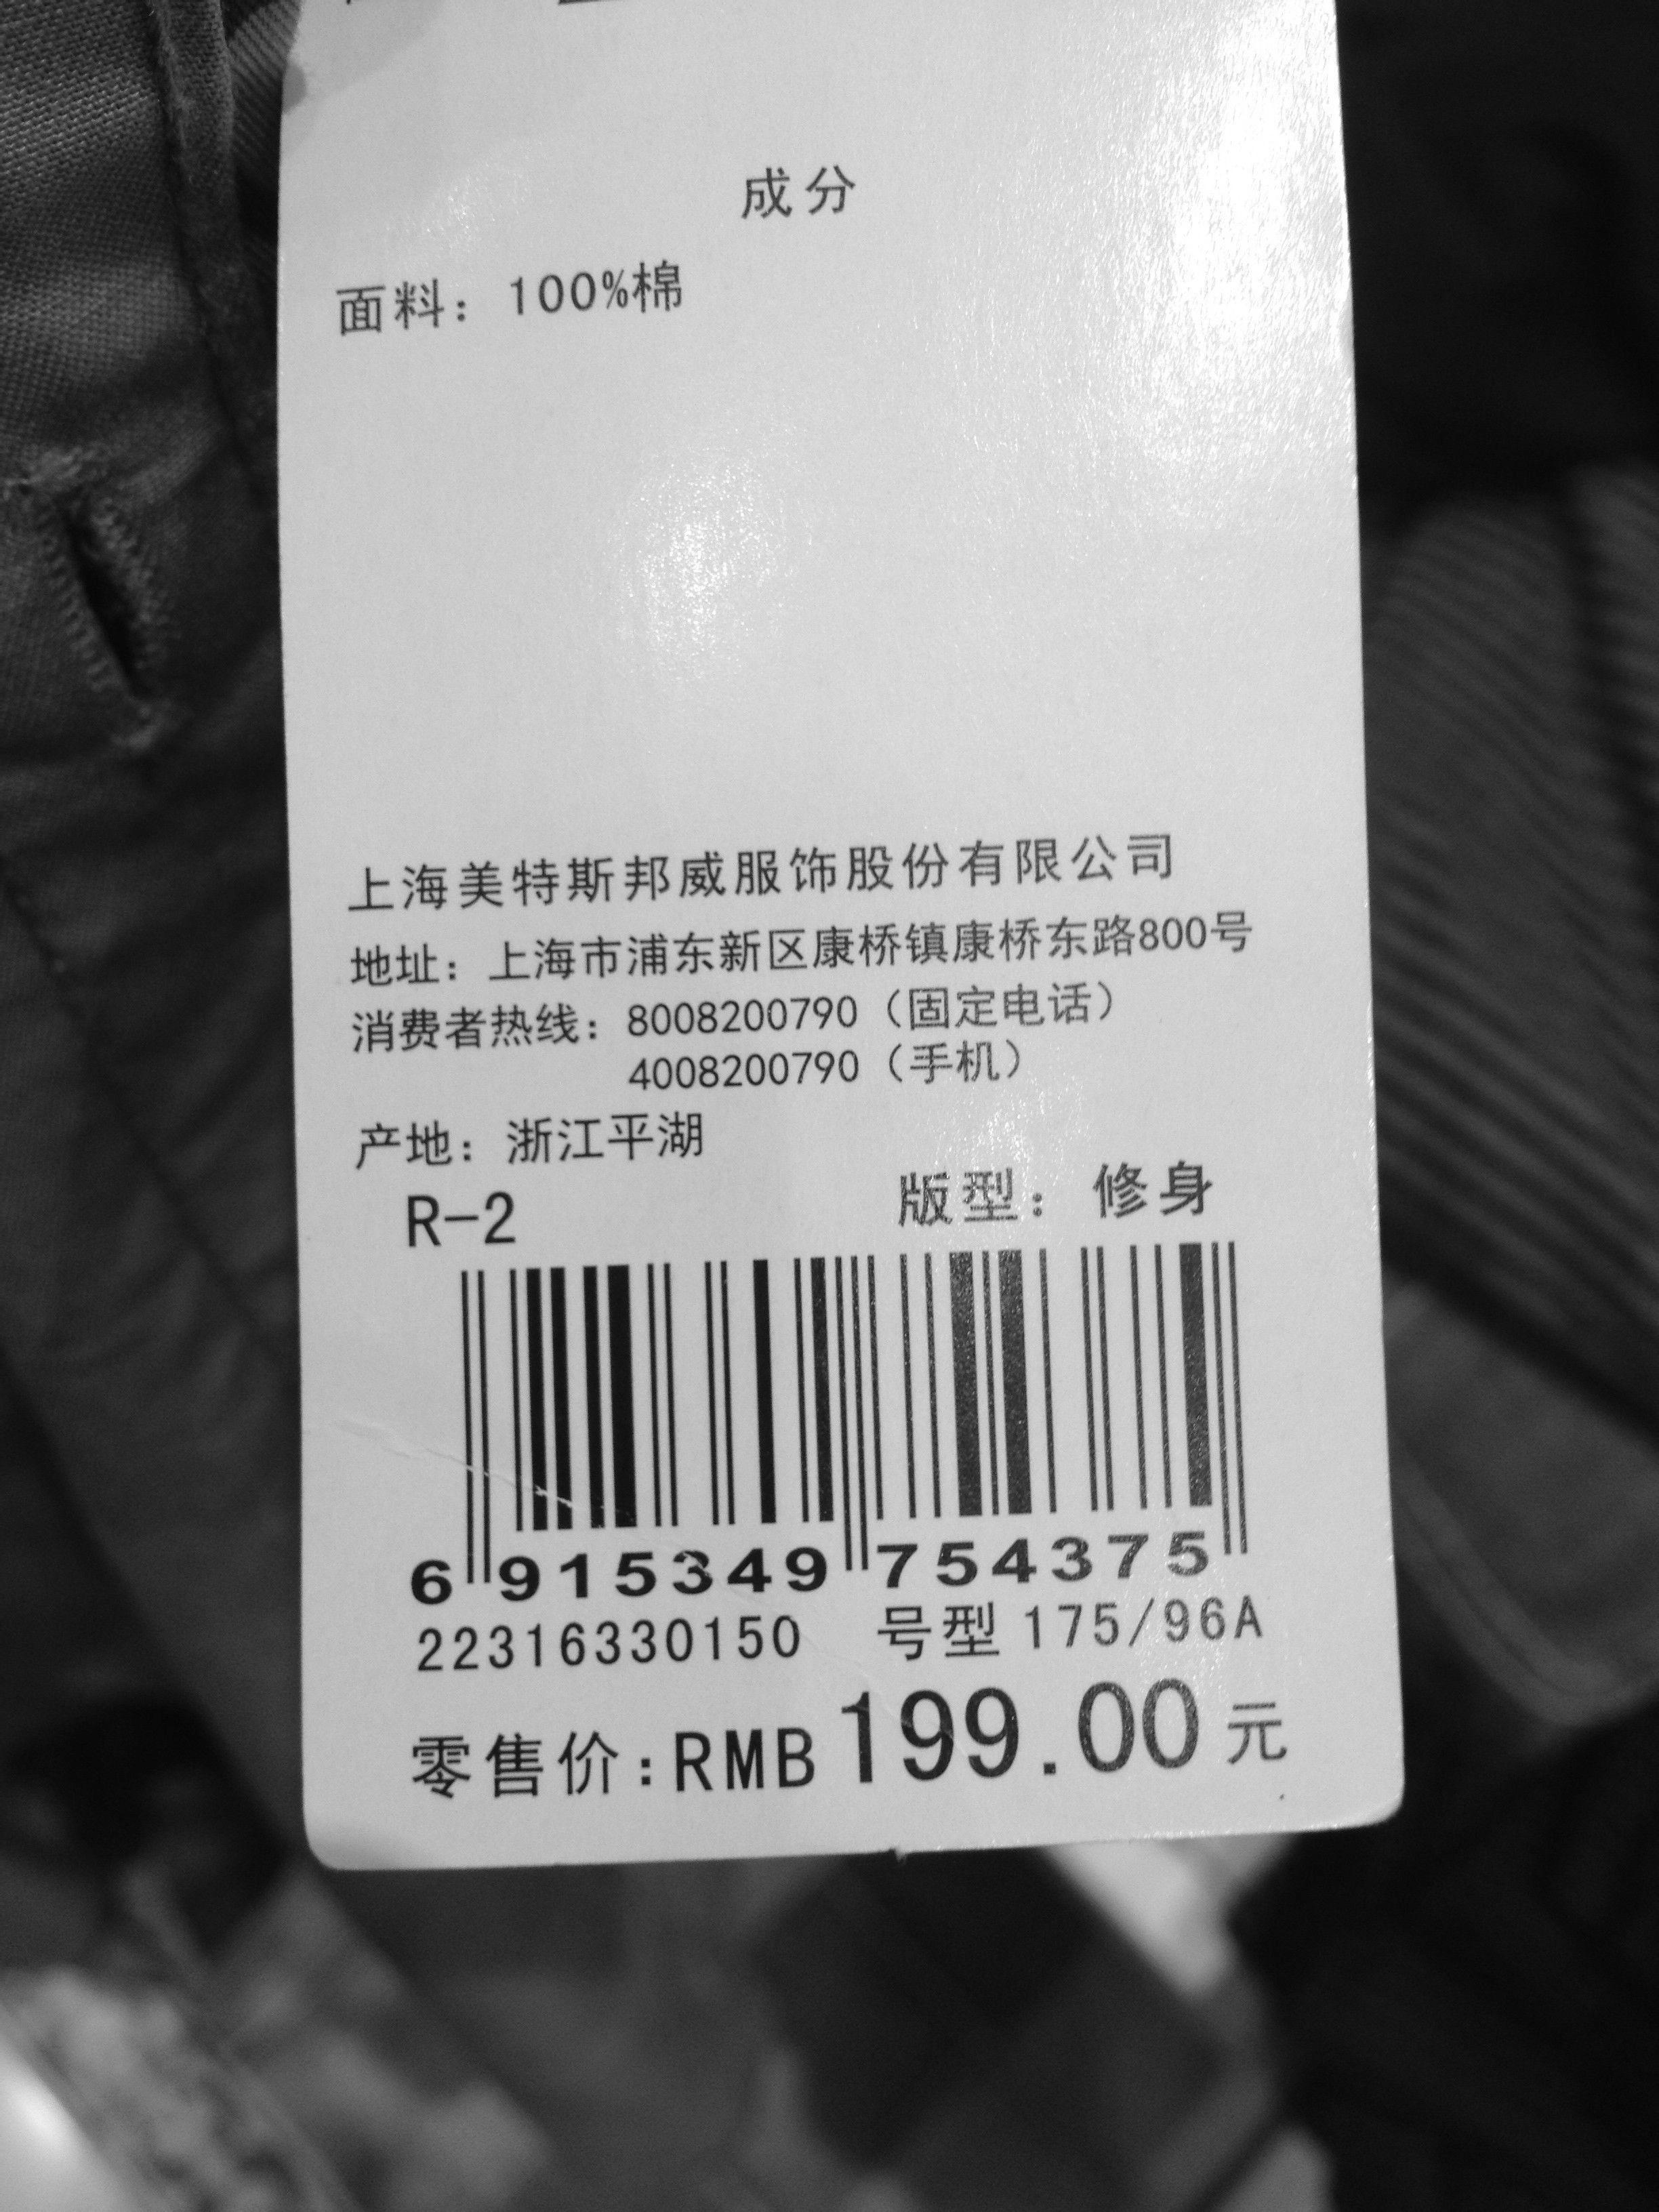Barcode: (423, 1226, 1307, 1625)
